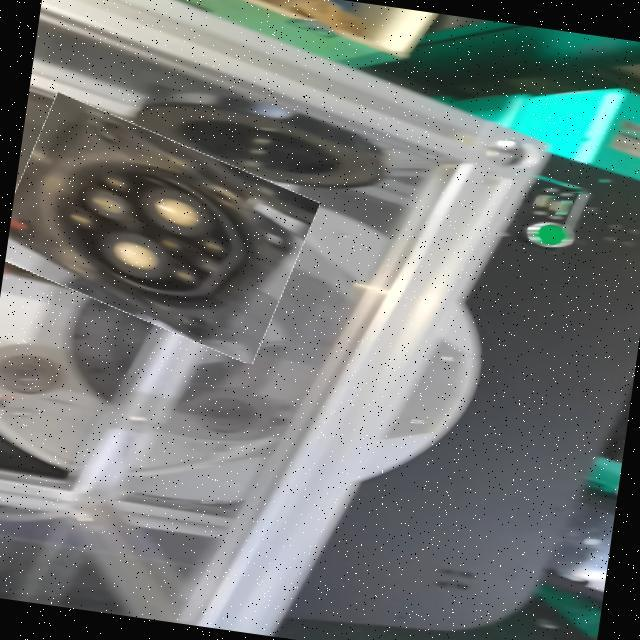GB-T: (0, 162, 293, 346)
